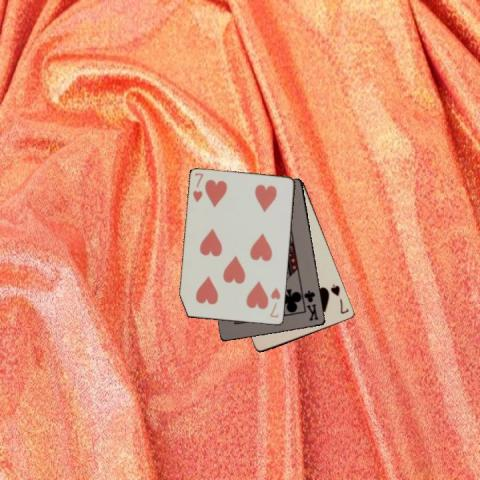7h: (267, 286, 282, 320), (190, 170, 205, 204)
7s: (328, 282, 350, 316)
Kc: (302, 287, 320, 323)
